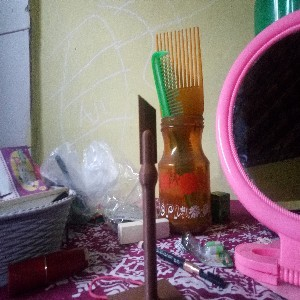cutter: (137, 93, 159, 300)
